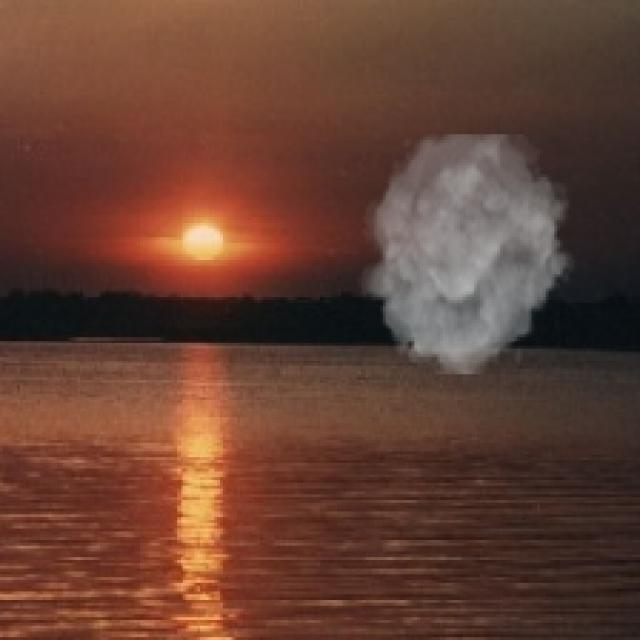smoke: (357, 134, 577, 374)
